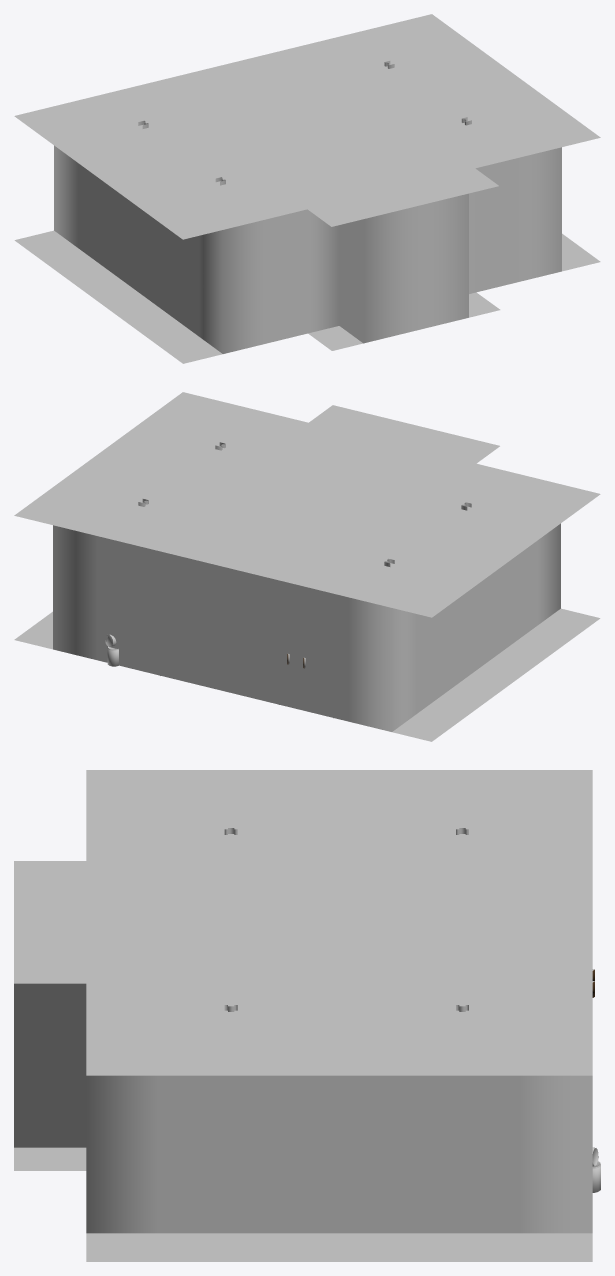
The model's file is MenuScene_fbx.fbx.
3 views of the same model, one above another, from view 1: azimuth 30°, elevation 25°; view 2: azimuth 150°, elevation 25°; view 3: azimuth 270°, elevation 25° (orthographic). The views are drawn at different scales.
Parts seen in each view (by area): view 1: Room; view 2: Room; view 3: Room.
Part boxes in pixels (left/top/right/bottom): Room: left=14, top=14, right=600, bottom=363; Room: left=14, top=392, right=600, bottom=741; Room: left=14, top=770, right=592, bottom=1261.
Size of the model in its own units: 99.98 by 30.53 by 81.13.
